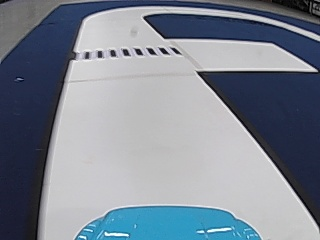CrossWalk: (75, 44, 183, 60)
